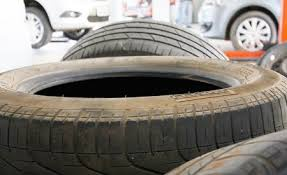tire: (1, 55, 287, 174), (230, 10, 280, 56), (21, 7, 53, 49)
